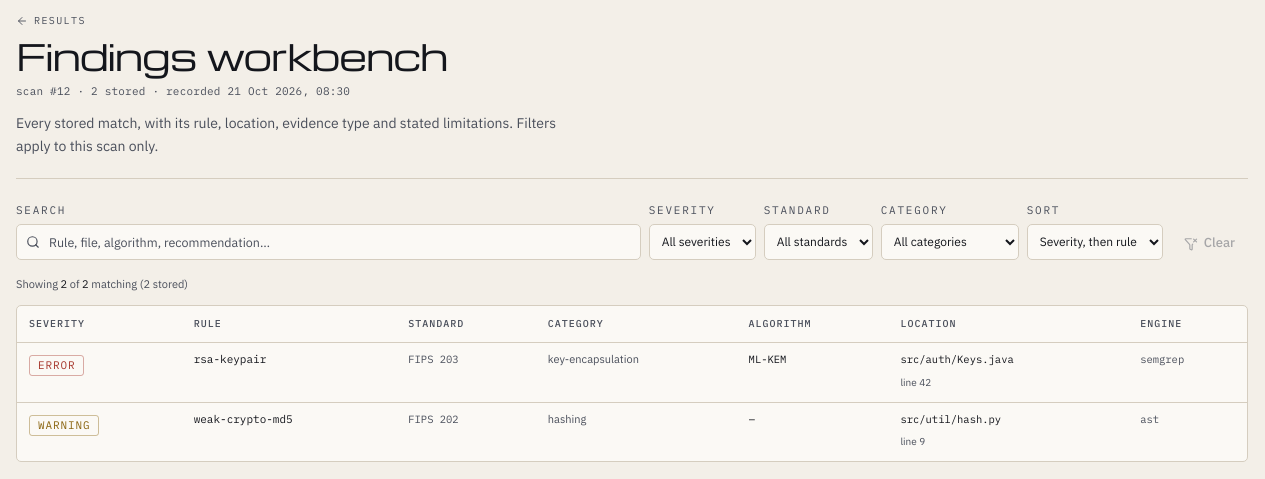
Test case: FindingsPage › filters by severity without changing the scan identity
The image size is (1265, 479).
Select "WARNING" in the dropdown labelled "Severity" at [702, 242], box [649,224,756,260]
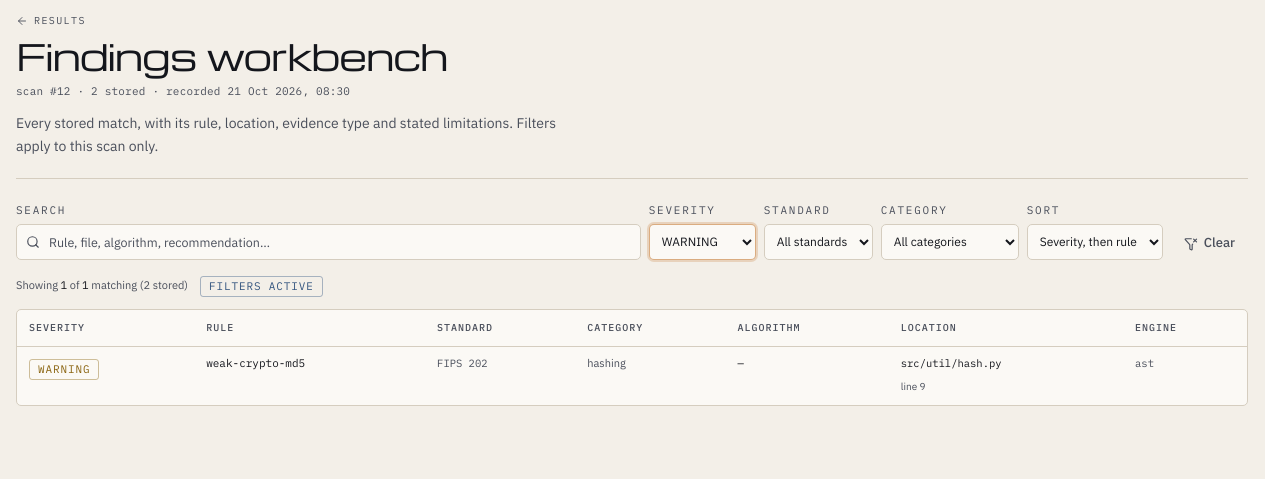
Expected: the text "weak-crypto-md5" is shown, [206,356,305,370]
Expected: the text "rsa-keypair" is not shown
